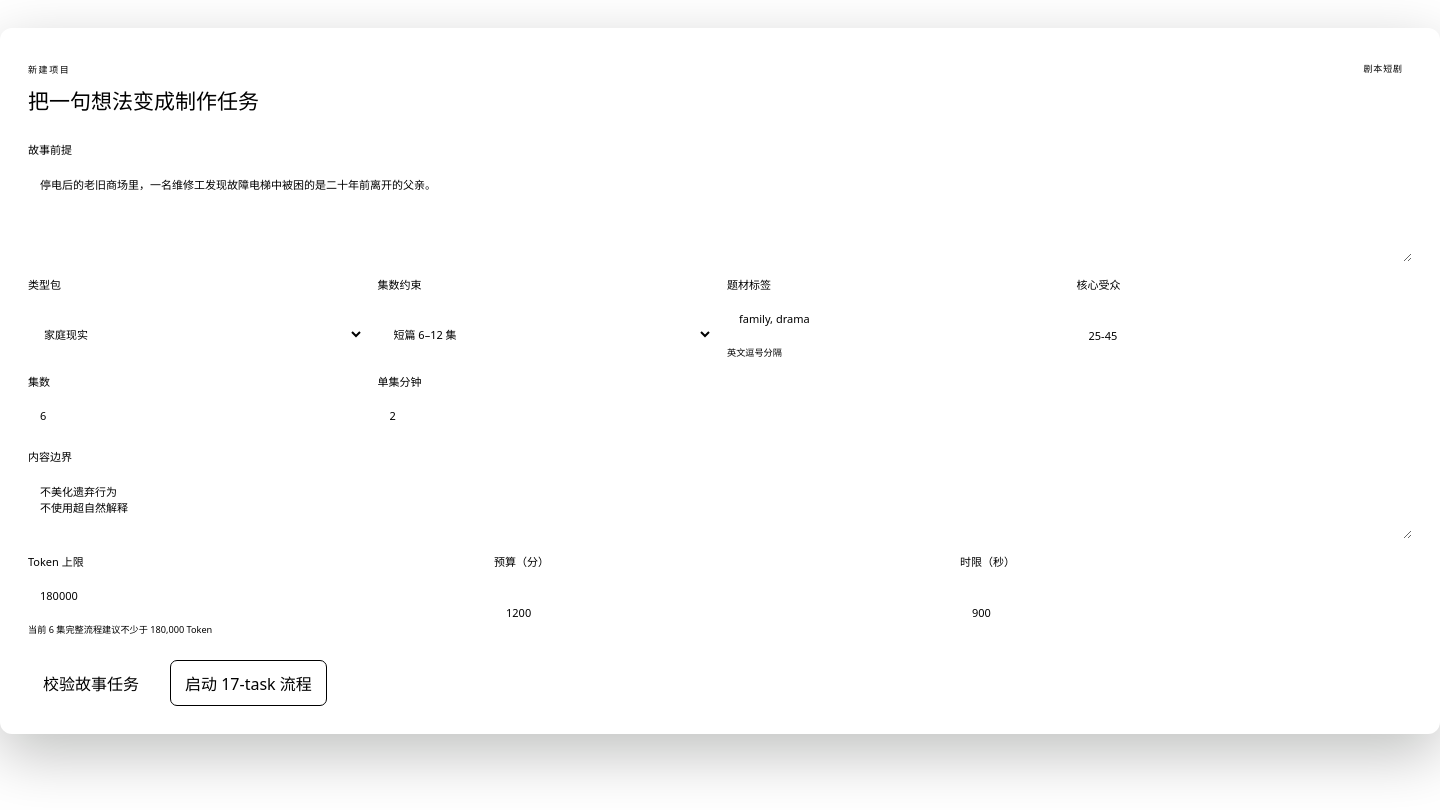
Test: StoryJobForm › 错误处理 › 应该处理启动任务失败
What coordinates should you click on to do the following:
click the button "启动 17-task 流程"
I would click on:
 (248, 683)
Its box is 170,660 -> 327,706.
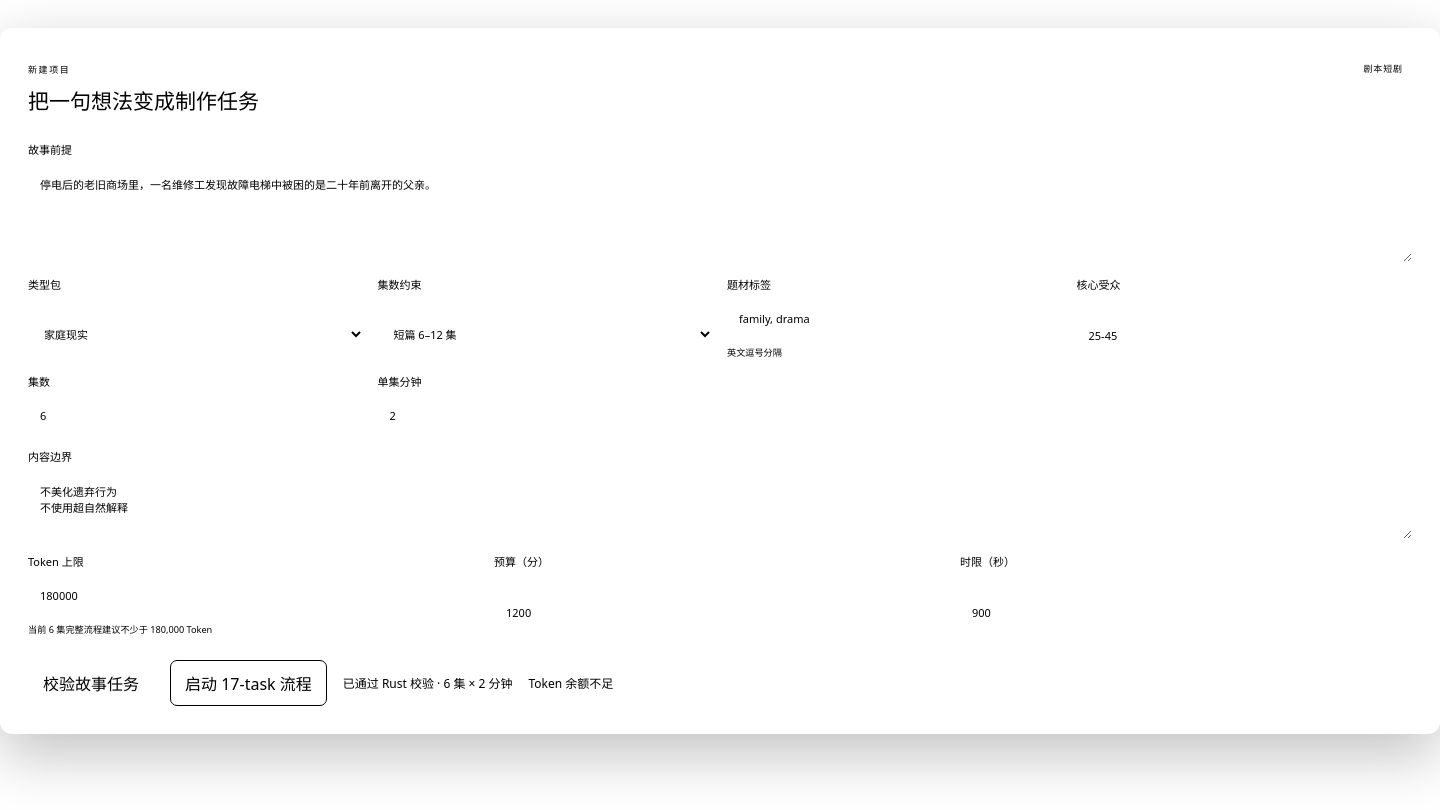
Result: the text "Token 余额不足" is shown at 528,674 -> 613,692
